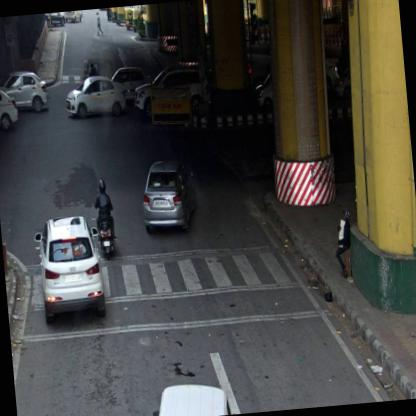car: (34, 213, 107, 325), (140, 156, 200, 238), (132, 64, 209, 118), (141, 379, 237, 415), (64, 73, 128, 118), (0, 70, 50, 114), (0, 81, 21, 138), (45, 12, 65, 28), (64, 10, 84, 24)
motorcycle: (90, 180, 119, 264)
